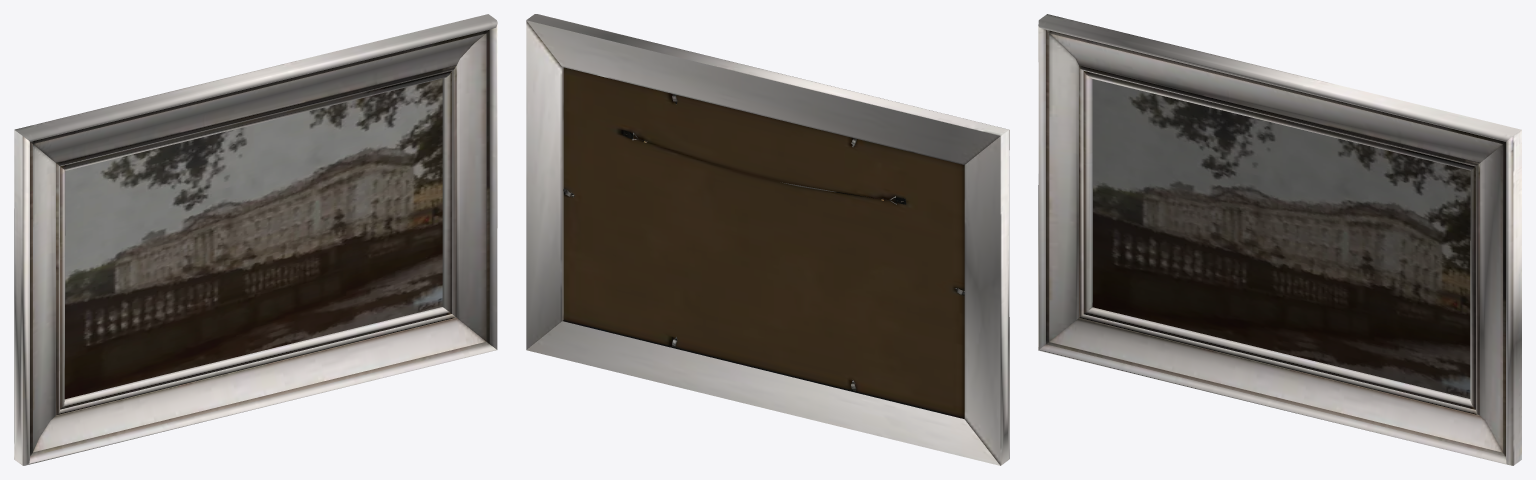
Rendered from frame_b.glb.
3 renders of one model, left to right at view 1: azimuth 30°, elevation 25°; view 2: azimuth 150°, elevation 25°; view 3: azimuth 330°, elevation 25°, orthographic.
Parts seen in each view (by area): view 1: frame_b; view 2: frame_b; view 3: frame_b.
Boxes of the visible parts, bbox=[...] form: frame_b: bbox=[14, 14, 497, 465]; frame_b: bbox=[526, 14, 1009, 465]; frame_b: bbox=[1038, 14, 1521, 465].
Size of the model in its own units: 0.7512 by 0.4988 by 0.0322.
1 material, 1 textured.
